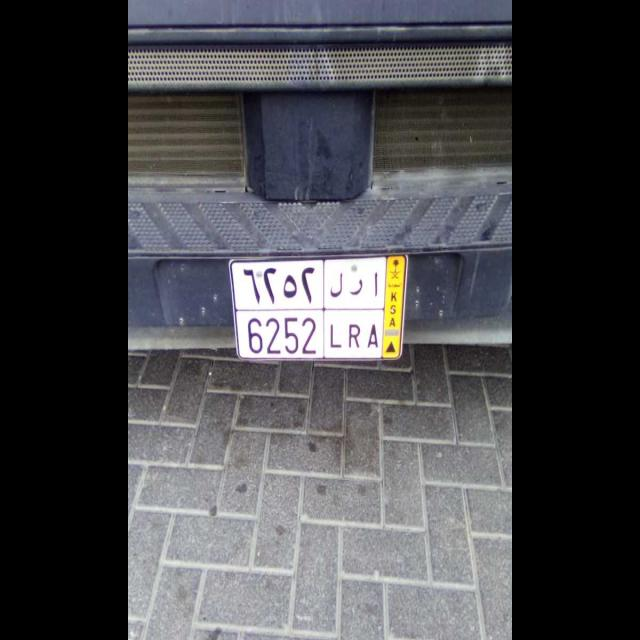license_plate: (235, 309, 383, 358)
